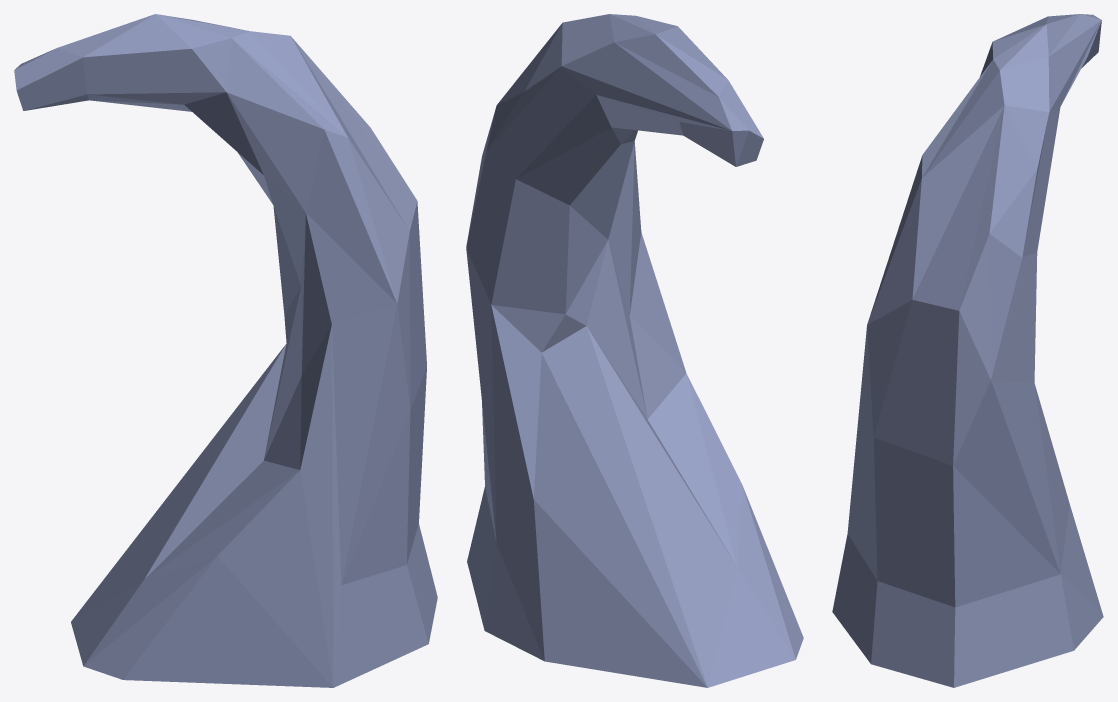
The model's file is Rock_26.fbx.
3 views of the same model, side by side, from view 1: azimuth 30°, elevation 25°; view 2: azimuth 150°, elevation 25°; view 3: azimuth 270°, elevation 25° (orthographic). The views are drawn at different scales.
Parts seen in each view (by area): view 1: Rock_26; view 2: Rock_26; view 3: Rock_26.
Part boxes in pixels (left/top/right/bottom): Rock_26: left=14, top=14, right=437, bottom=687; Rock_26: left=466, top=14, right=803, bottom=687; Rock_26: left=832, top=14, right=1103, bottom=687.
Bounding box in the file's own units: 3.81 × 6.21 × 2.73.
